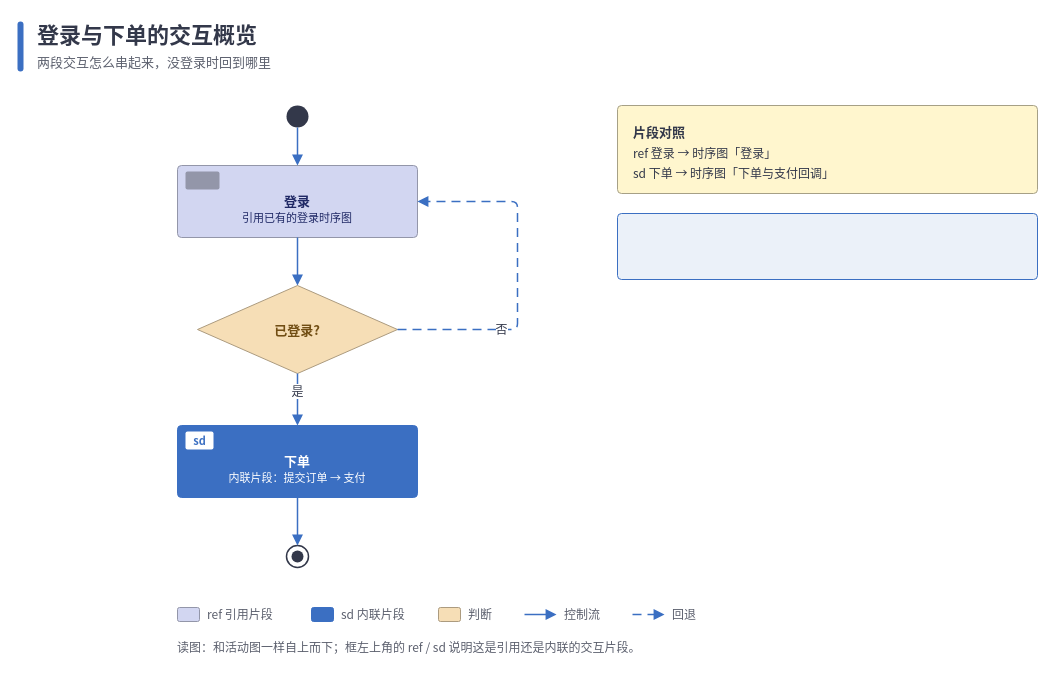
The diagram is 1055 pixels wide and 674 high, and some of its shapes have lost their labels. The centre of each missing label's shape, as x and y in pixels:
ref: pixel 202 180
不在这张图里 注册、找回密码的交互: pixel 827 246
